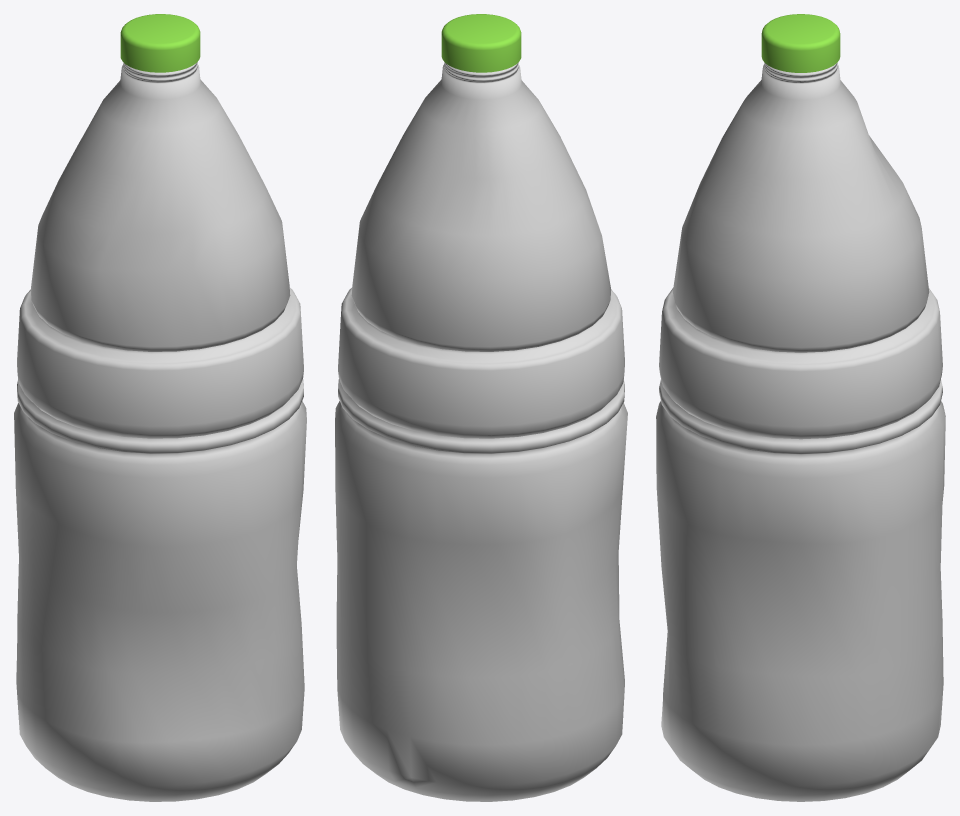
The model's file is bottle1.fbx.
3 views of the same model, side by side, from view 1: azimuth 30°, elevation 25°; view 2: azimuth 150°, elevation 25°; view 3: azimuth 270°, elevation 25° (orthographic).
Parts seen in each view (by area): view 1: Cylinder; view 2: Cylinder; view 3: Cylinder.
Part boxes in pixels (box(x1,y1,x2,y2)): Cylinder: box(14, 14, 306, 801); Cylinder: box(335, 14, 627, 801); Cylinder: box(656, 14, 945, 801).
Size of the model in its own units: 12.77 by 34.6 by 12.57.
